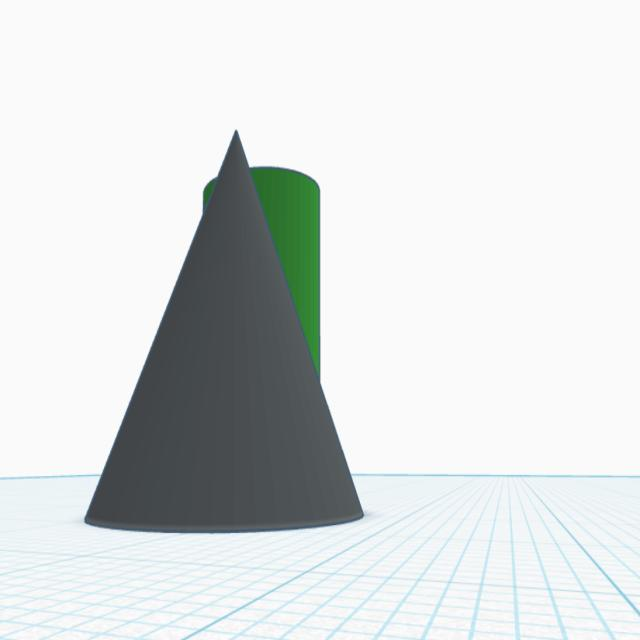cone: (84, 120, 366, 537)
